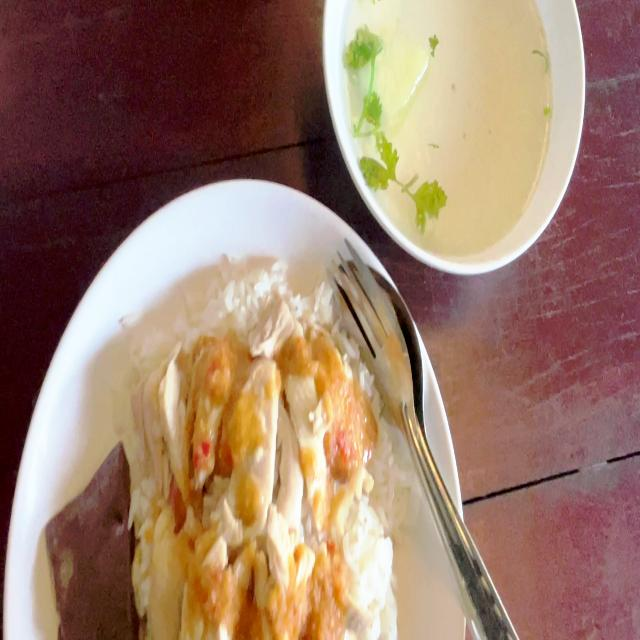boiled_chicken: (124, 334, 373, 626)
boiled_chicken_blood_jelly: (47, 438, 134, 640)
chicken_rice: (37, 259, 396, 640)
